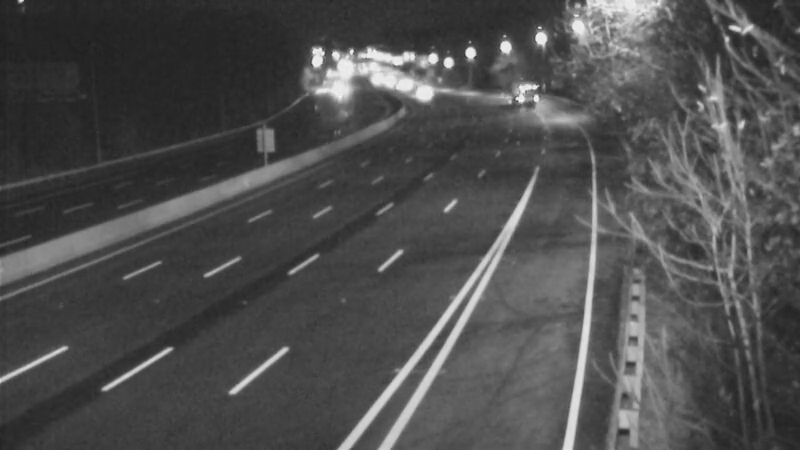vehicle: (348, 54, 398, 104), (377, 59, 427, 109), (495, 65, 545, 115), (397, 65, 447, 115), (314, 68, 364, 118)
